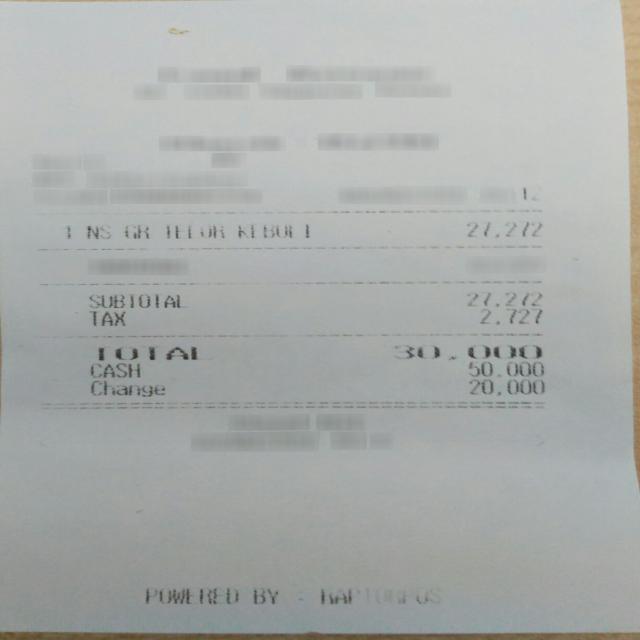text: (394, 344, 542, 360), (317, 589, 445, 605), (91, 346, 211, 360), (143, 588, 240, 604), (88, 294, 189, 309), (468, 378, 544, 396), (467, 292, 542, 309), (468, 362, 544, 378), (467, 222, 542, 238), (90, 380, 163, 396), (478, 308, 542, 325), (88, 362, 139, 378), (166, 224, 224, 238), (237, 224, 292, 238), (88, 310, 125, 326), (252, 587, 280, 605), (85, 224, 112, 240), (123, 224, 148, 238), (302, 222, 313, 238), (62, 224, 72, 240)
